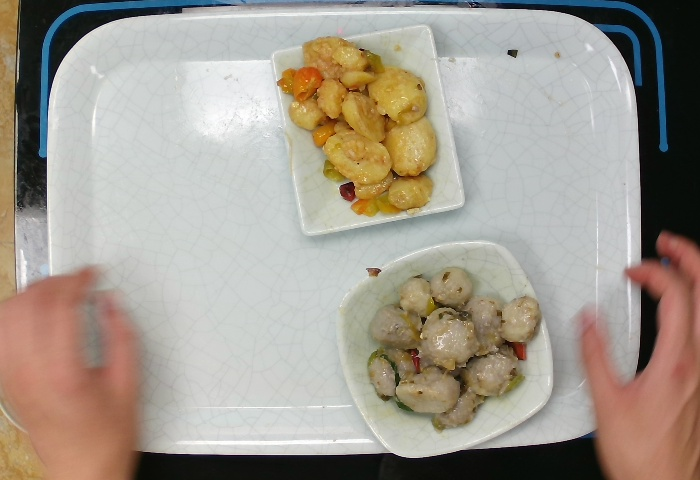WCQzf-Da_Si_Fang_Die: (329, 236, 558, 463)
WCQzf-Ru_Ci_Si_Fang_Die: (266, 18, 471, 245)
